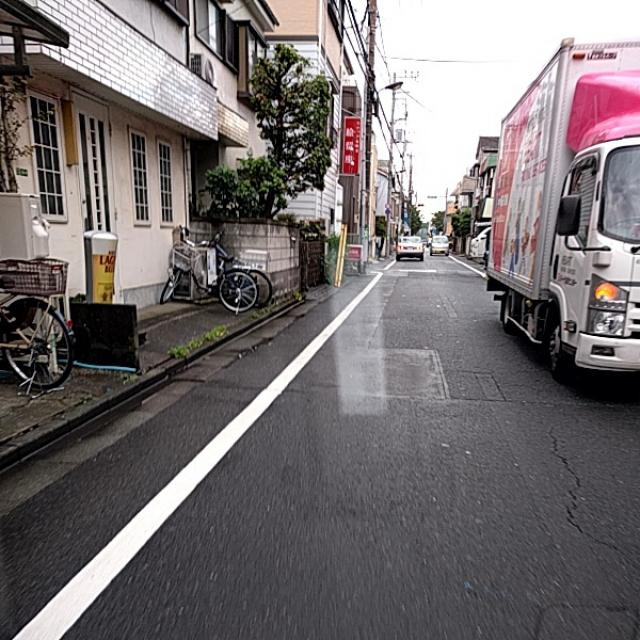pothole: (523, 432, 594, 537)
